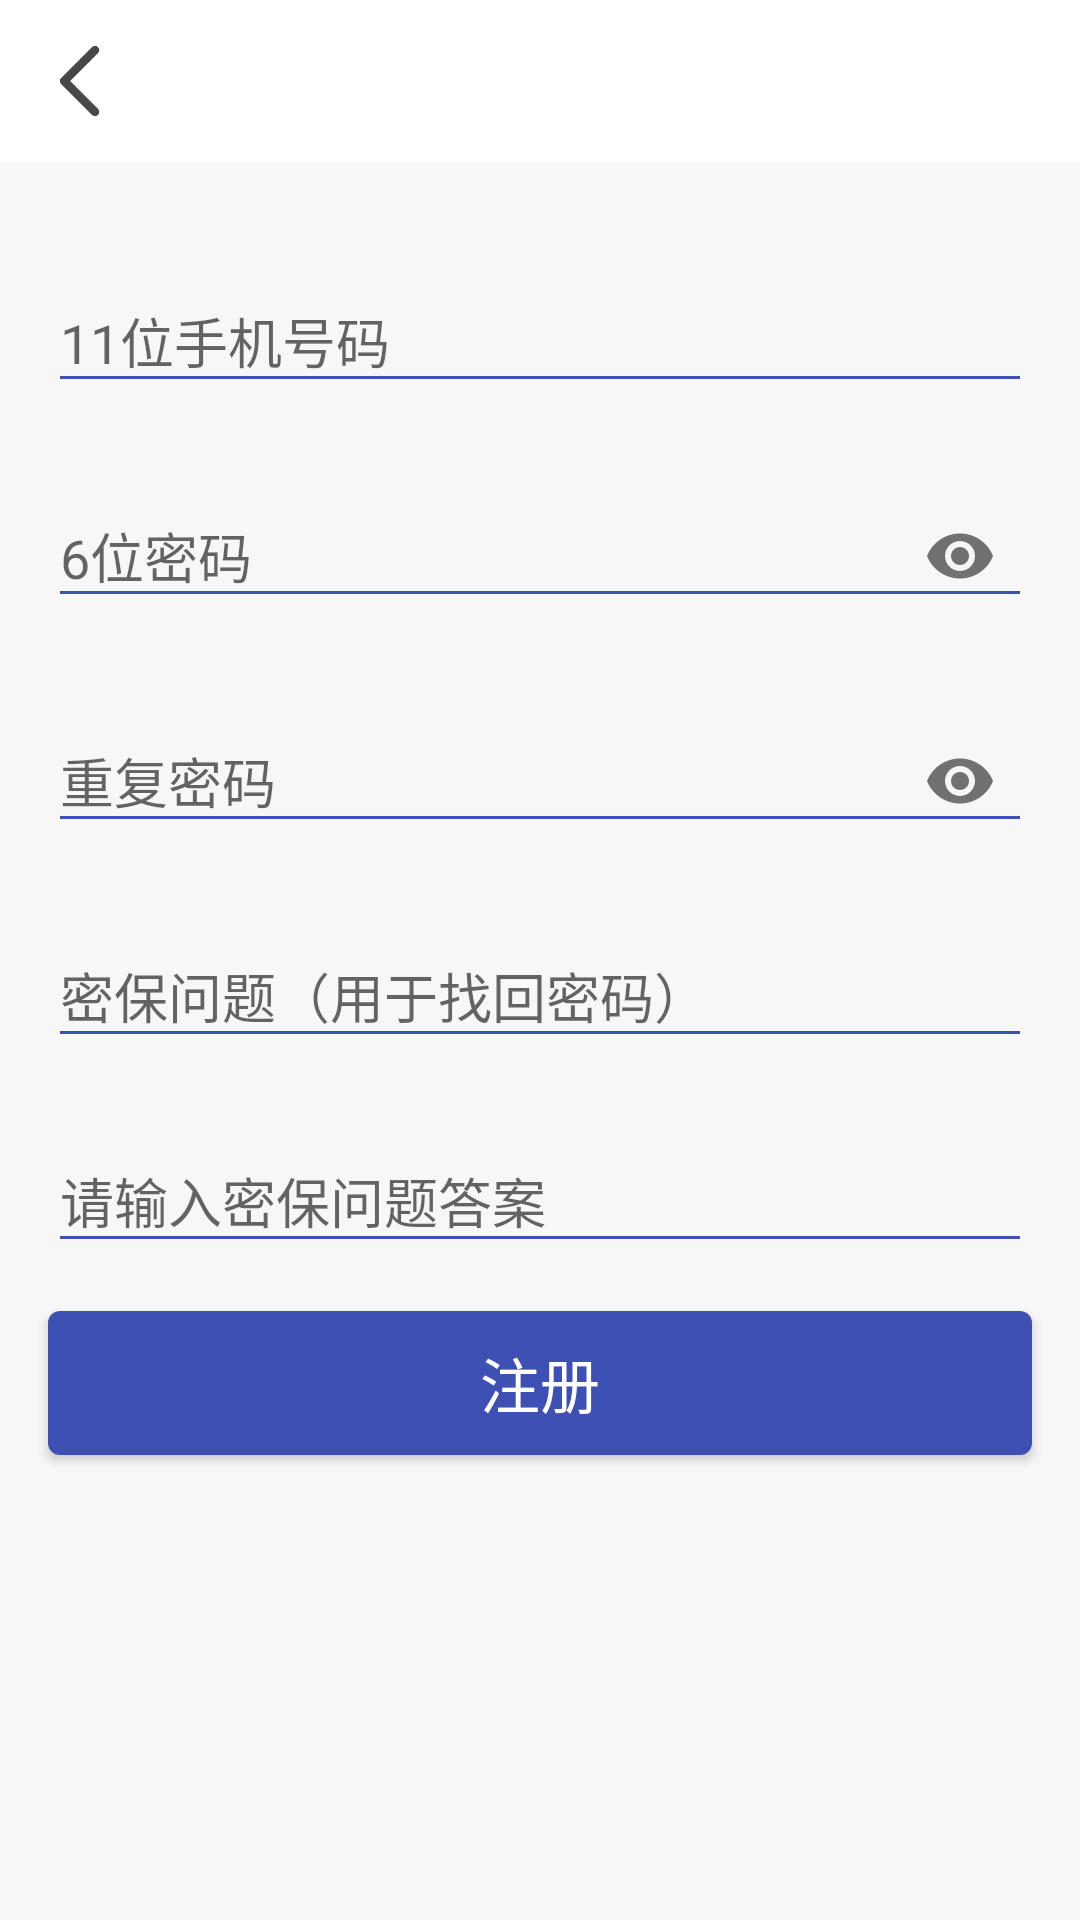

Named icons in this screenshot (1080×1920) and their bounding boxes, (x1, y1, x2, y2):
back: (60, 46, 100, 116)
